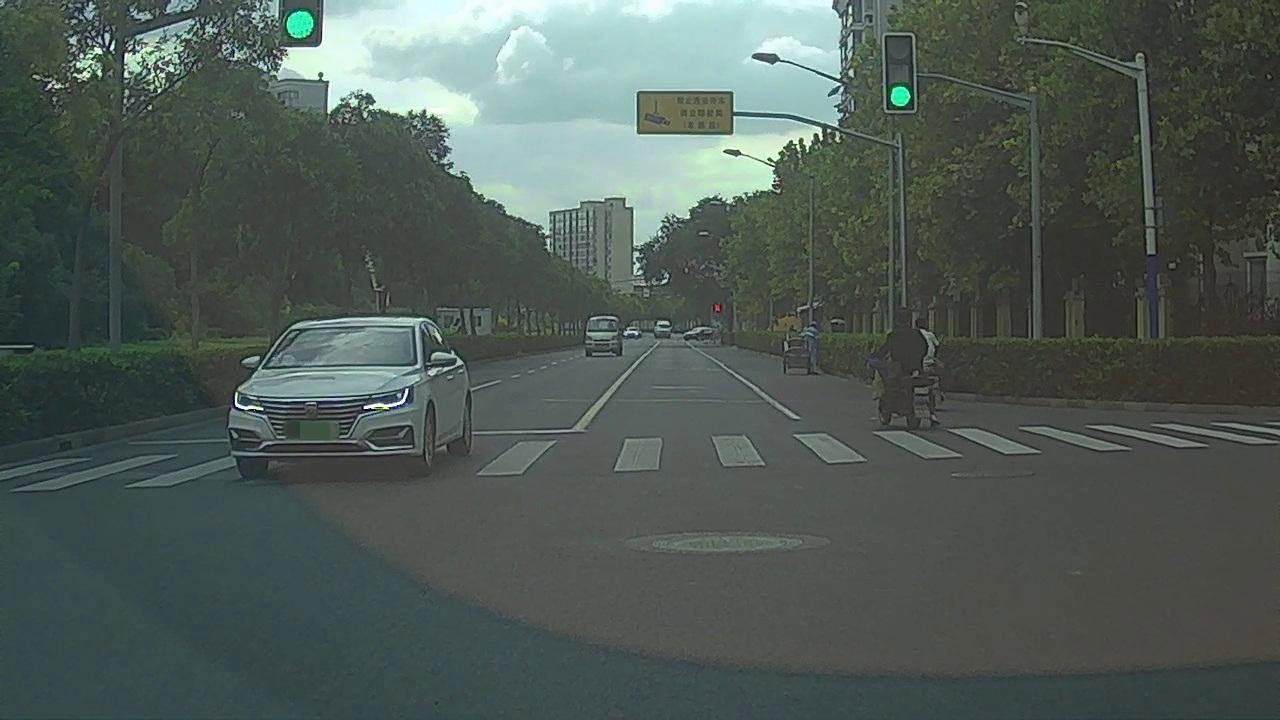traffic_light: (885, 33, 916, 110), (279, 1, 322, 43)
